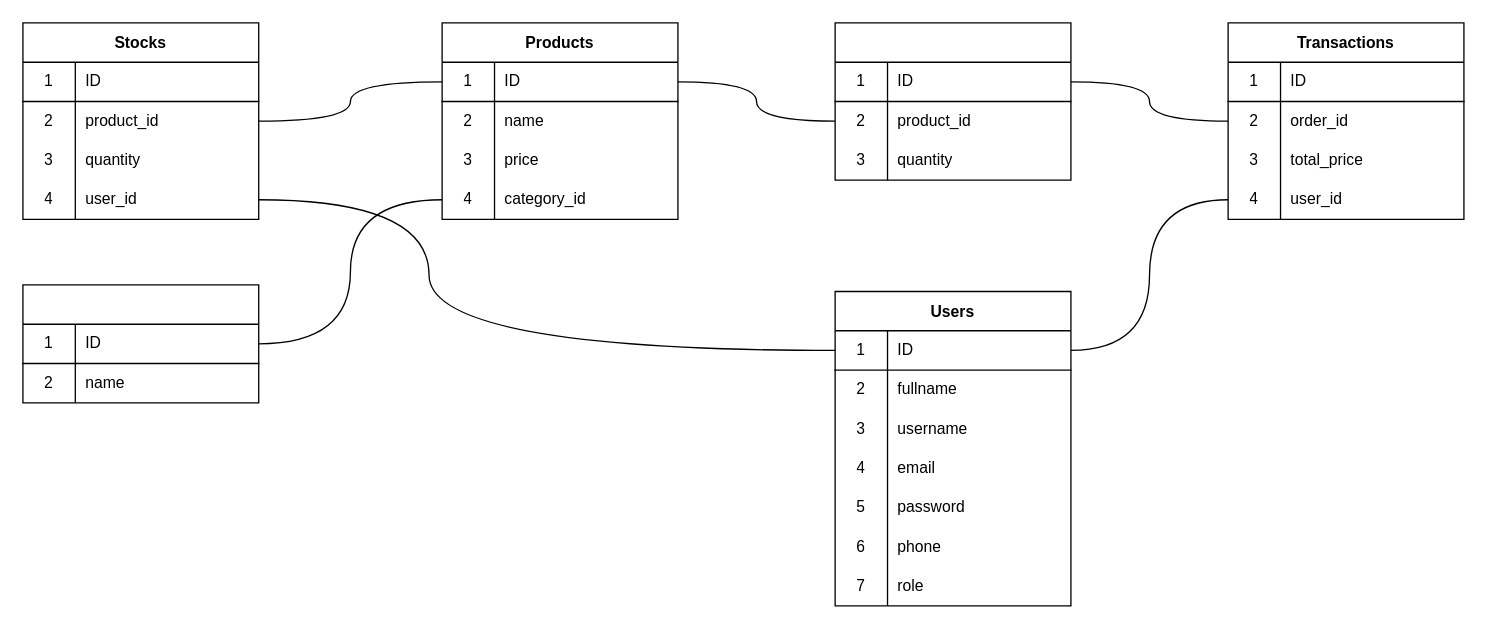
The diagram is 1487 pixels wide and 629 high, and some of its shapes have lost their labels. The shapes that lost their labels are listed below. From the top down, each one's box as (x1, y1, x2, y2) in pixels, then its label:
(834, 22, 1071, 180): Orders
(22, 284, 259, 403): Categories
